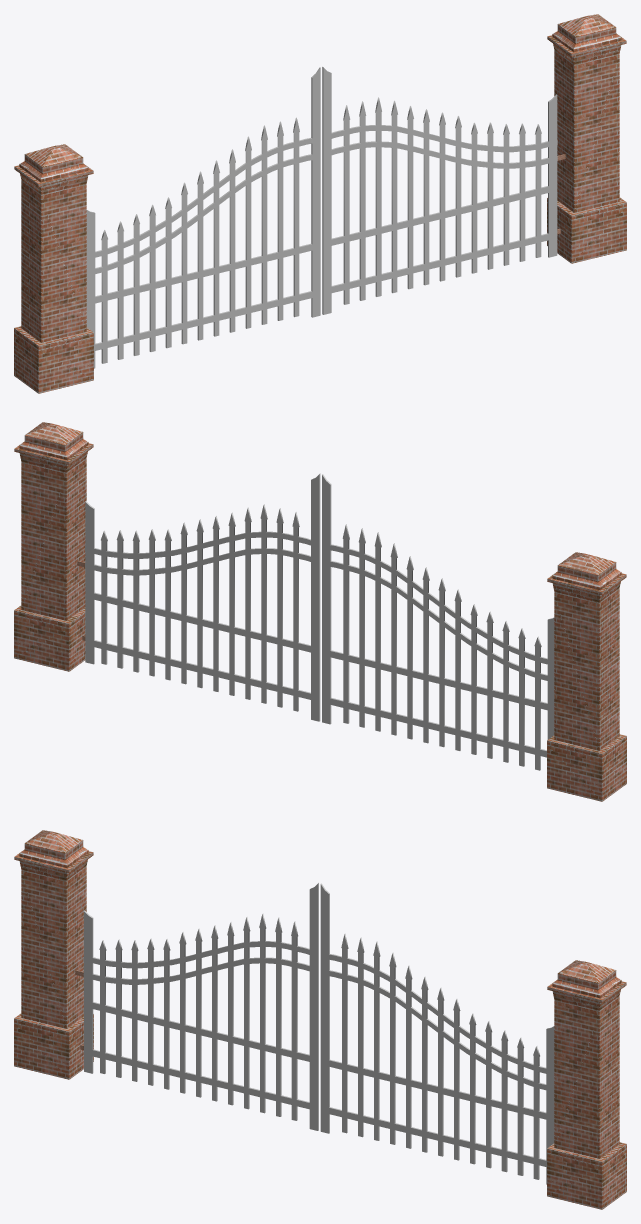
File: Portao.FBX
The picture shows the model from 3 angles, top to bottom: view 1: azimuth 30°, elevation 25°; view 2: azimuth 150°, elevation 25°; view 3: azimuth 330°, elevation 25°; orthographic projection.
Visible parts, largest first — view 1: Box05, Box89, Box92, Box107; view 2: Box05, Box89, Box92, Box107; view 3: Box89, Box05, Box107, Box92.
Part boxes in pixels (x1,y1,x2,y2): Box05: [322, 67, 557, 314]; Box89: [86, 67, 320, 368]; Box92: [14, 144, 93, 393]; Box107: [547, 14, 626, 263]; Box05: [85, 473, 320, 721]; Box89: [322, 474, 554, 770]; Box92: [547, 552, 626, 801]; Box107: [14, 422, 93, 671]; Box89: [83, 883, 318, 1130]; Box05: [320, 883, 554, 1184]; Box107: [547, 960, 626, 1209]; Box92: [14, 830, 93, 1079].
Size of the model in its own units: 350 by 141 by 25.44.
